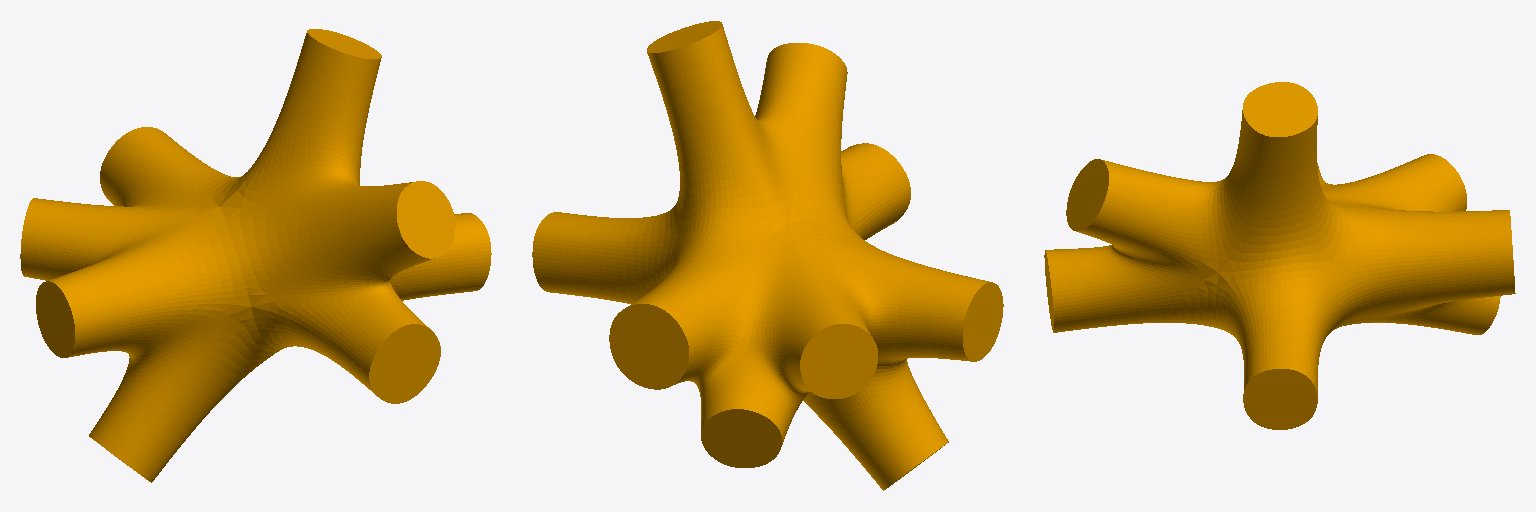
The robot description file, URDF, robot "object":
<robot name="object">
  <link name="object">
    <visual>
      <origin xyz="0 0 0"/>
      <geometry>
        <mesh filename="visual.obj" scale="1 1 1"/>
      </geometry>
    </visual>
    <collision>
      <origin xyz="0 0 0"/>
      <geometry>
        <mesh filename="collision.obj" scale="1 1 1"/>
      </geometry>
    </collision>
    <inertial>
      <mass value="0.05"/>
      <inertia ixx="5.2955693698614214e-05" iyy="4.7154323754333905e-05" izz="6.644155905827493e-05" ixy="9.990677592240757e-06" ixz="-8.276692595793844e-06" iyz="4.64077722793773e-06"/>
    </inertial>
  </link>
</robot>

--- Facts derived from the render (not from the file) ---
Views: 3 orthographic renders of the robot side by side, from view 1: azimuth 30°, elevation 25°; view 2: azimuth 150°, elevation 25°; view 3: azimuth 270°, elevation 25°.
Robot: object — 1 links, 0 joints (none); root link object; default pose: every joint at zero.
Links seen in each view (by area): view 1: object; view 2: object; view 3: object.
Boxes of the visible links, bbox=[...] form: object: bbox=[20, 29, 491, 482]; object: bbox=[532, 21, 1003, 490]; object: bbox=[1044, 82, 1515, 429].
Bounding box of the posed robot: 0.1355 × 0.1362 × 0.1225 m (x, y, z).
1 mesh visuals loaded from 1 distinct referenced files (1 OBJ).
